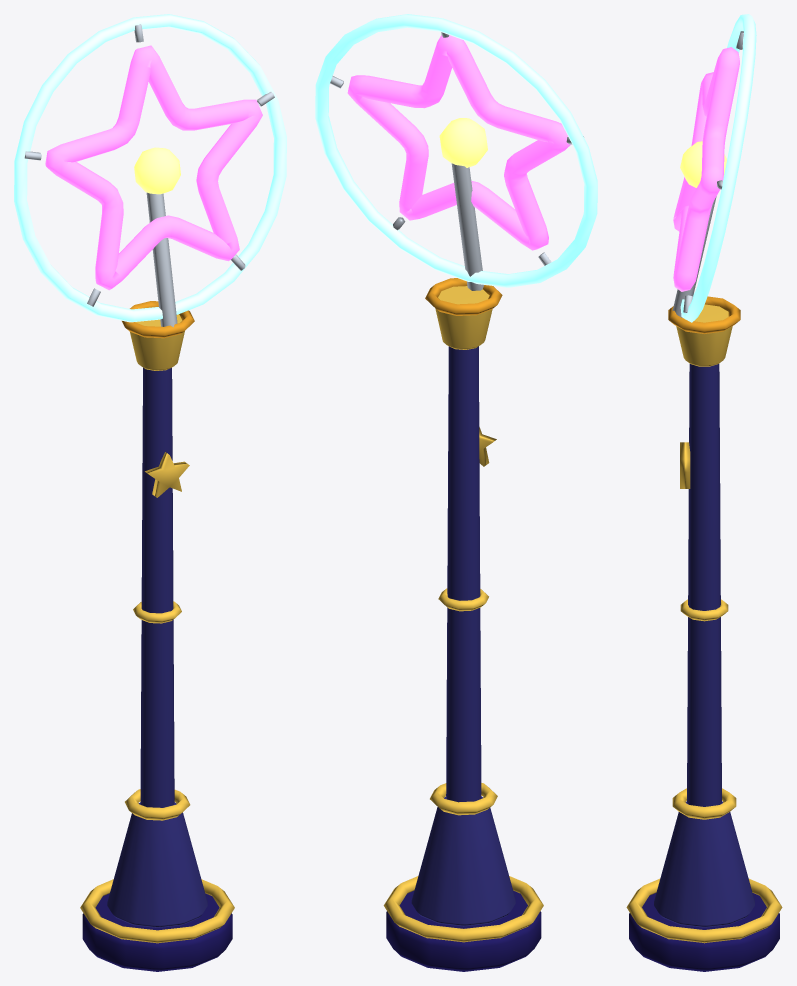
Rendered from neon_lamp.glb.
The picture shows the model from 3 angles, left to right: view 1: azimuth 30°, elevation 25°; view 2: azimuth 150°, elevation 25°; view 3: azimuth 270°, elevation 25°; orthographic projection. The views are drawn at different scales.
Visible parts, largest first — view 1: Post, Head.001; view 2: Post, Head.001; view 3: Post, Head.001.
Boxes of the visible parts, x1,y1,x2,y2 form: Post: (80, 301, 234, 971); Head.001: (14, 14, 286, 327); Post: (383, 278, 543, 971); Head.001: (315, 14, 597, 290); Post: (626, 296, 782, 971); Head.001: (672, 14, 756, 322).
Bounding box in the file's own units: 0.898 × 2.87 × 0.444.
